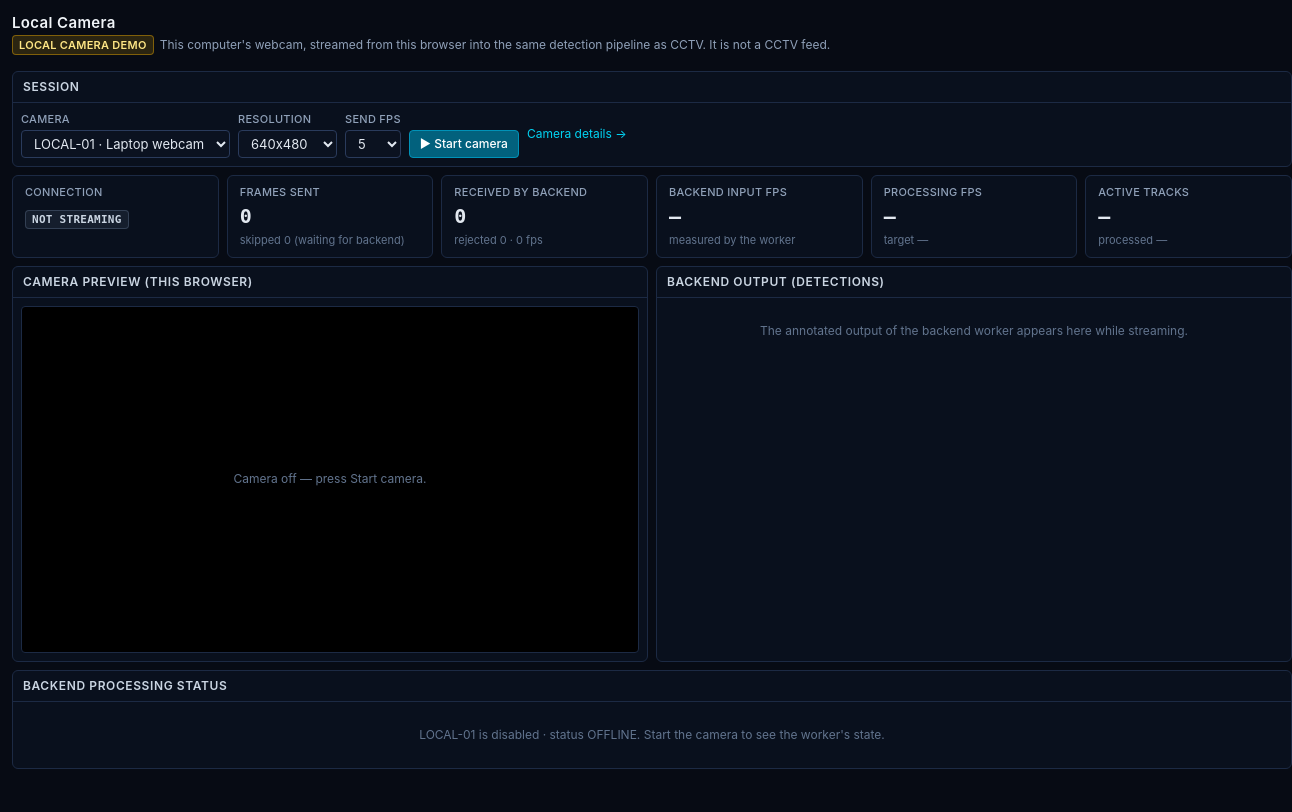
Test: Local Camera page › refuses to start on an insecure page
Step 1. Click the button "▶ Start camera" → (464, 144), box [409,130,519,158]
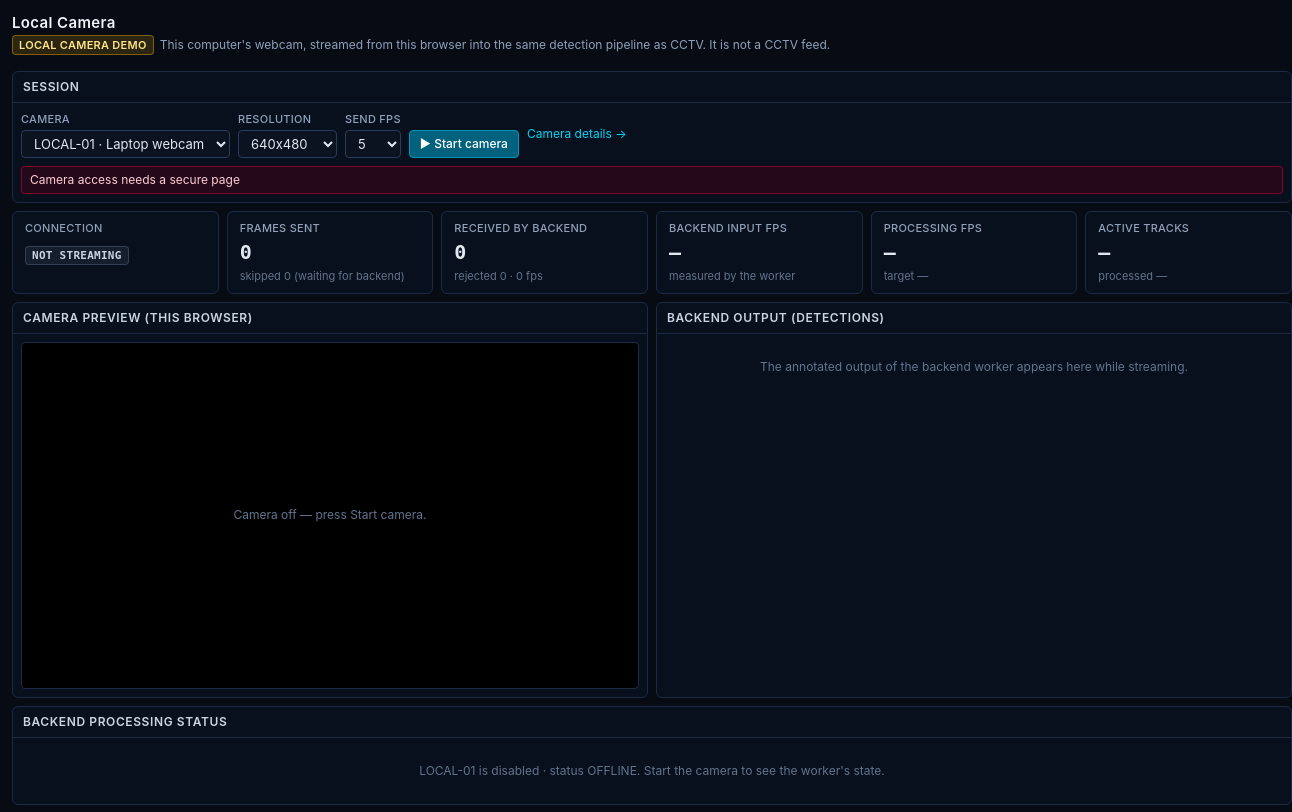
Expected: the message shows "secure page", [30,172,240,186]
